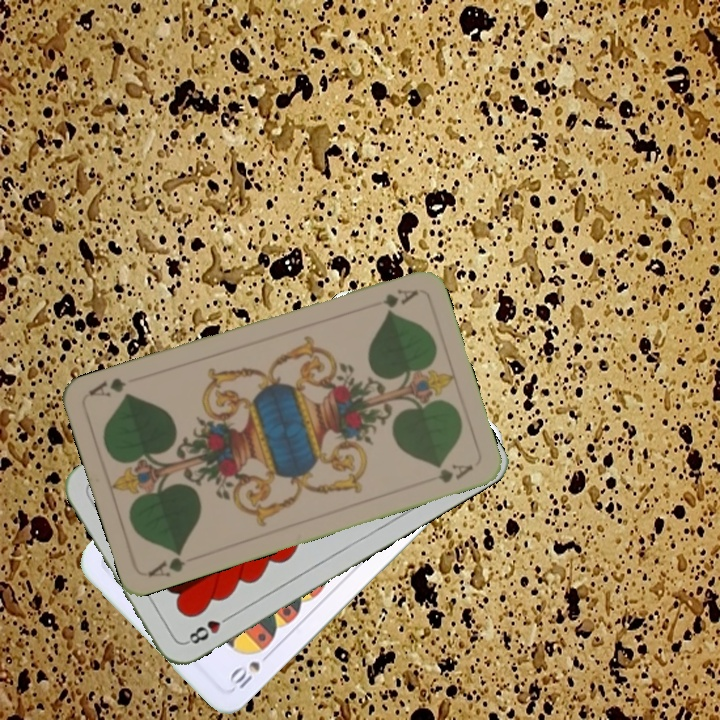GA: (144, 545, 187, 580), (379, 284, 421, 312)
H8: (182, 610, 235, 647)
S10: (225, 647, 275, 692)
